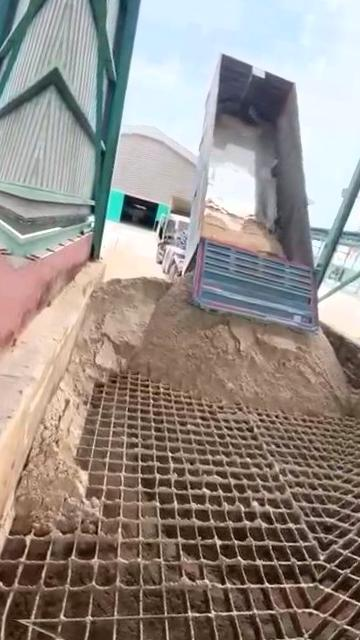sand: (14, 277, 350, 533), (203, 202, 284, 257)
